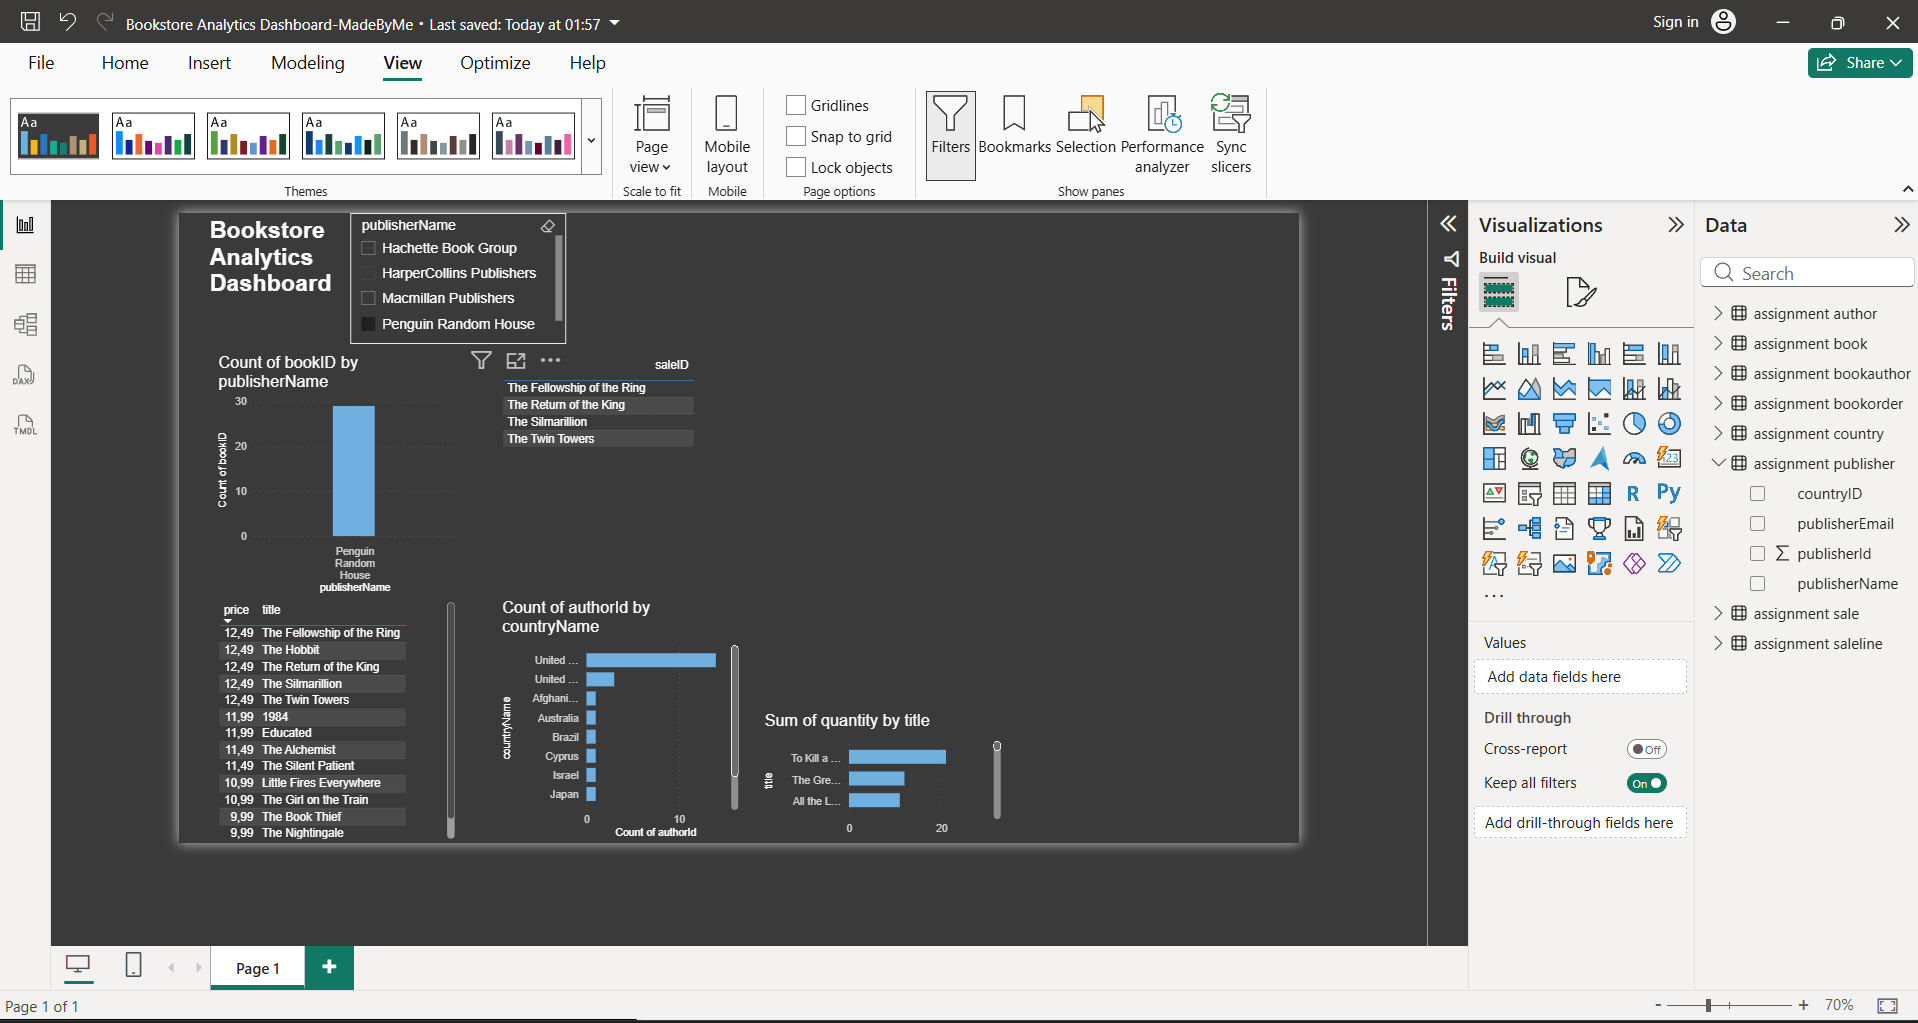

The page's visual inventory and layout, read from the dashboard file:
{"tool":"powerbi","page":{"name":"Page 1","canvas":[1280,720],"ordinal":0},"visuals":[{"type":"clusteredColumnChart","fields":{"Category":["assignment publisher.publisherName"],"Y":["CountNonNull(assignment book.bookID)"]},"box":[40,160,280,280],"z":0},{"type":"tableEx","fields":{"Values":["assignment book.price","assignment book.title"]},"box":[40,440,280,280],"z":1000},{"type":"clusteredBarChart","fields":{"Category":["assignment book.title"],"Y":["Sum(assignment saleline.quantity)"]},"box":[664.3,570,280,150],"z":2000},{"type":"tableEx","fields":{"Values":["assignment book.title","assignment saleline.saleID"]},"box":[364.3,160,300,280],"z":3000},{"type":"clusteredBarChart","fields":{"Category":["assignment country.countryName"],"Y":["CountNonNull(assignment author.authorId)"]},"box":[364.3,440,280,280],"z":4000},{"type":"textbox","box":[30,0,165.7,150],"z":5000},{"type":"slicer","fields":{"Values":["assignment publisher.publisherName"]},"box":[195.7,0,247.1,150],"z":6001}]}

Visuals, with their boxes on the page's 1280x720 design canvas (x1, y1, x2, y2). These are canvas units, not pixel positions in the 1918x1023 screenshot, which may show the page scaled, cropped or inside an application window:
clusteredColumnChart - assignment publisher.publisherName x CountNonNull(assignment book.bookID): <box>40,160,320,440</box>
tableEx - assignment book.price x assignment book.title: <box>40,440,320,720</box>
clusteredBarChart - assignment book.title x Sum(assignment saleline.quantity): <box>664,570,944,720</box>
tableEx - assignment book.title x assignment saleline.saleID: <box>364,160,664,440</box>
clusteredBarChart - assignment country.countryName x CountNonNull(assignment author.authorId): <box>364,440,644,720</box>
textbox: <box>30,0,196,150</box>
slicer - assignment publisher.publisherName: <box>196,0,443,150</box>
